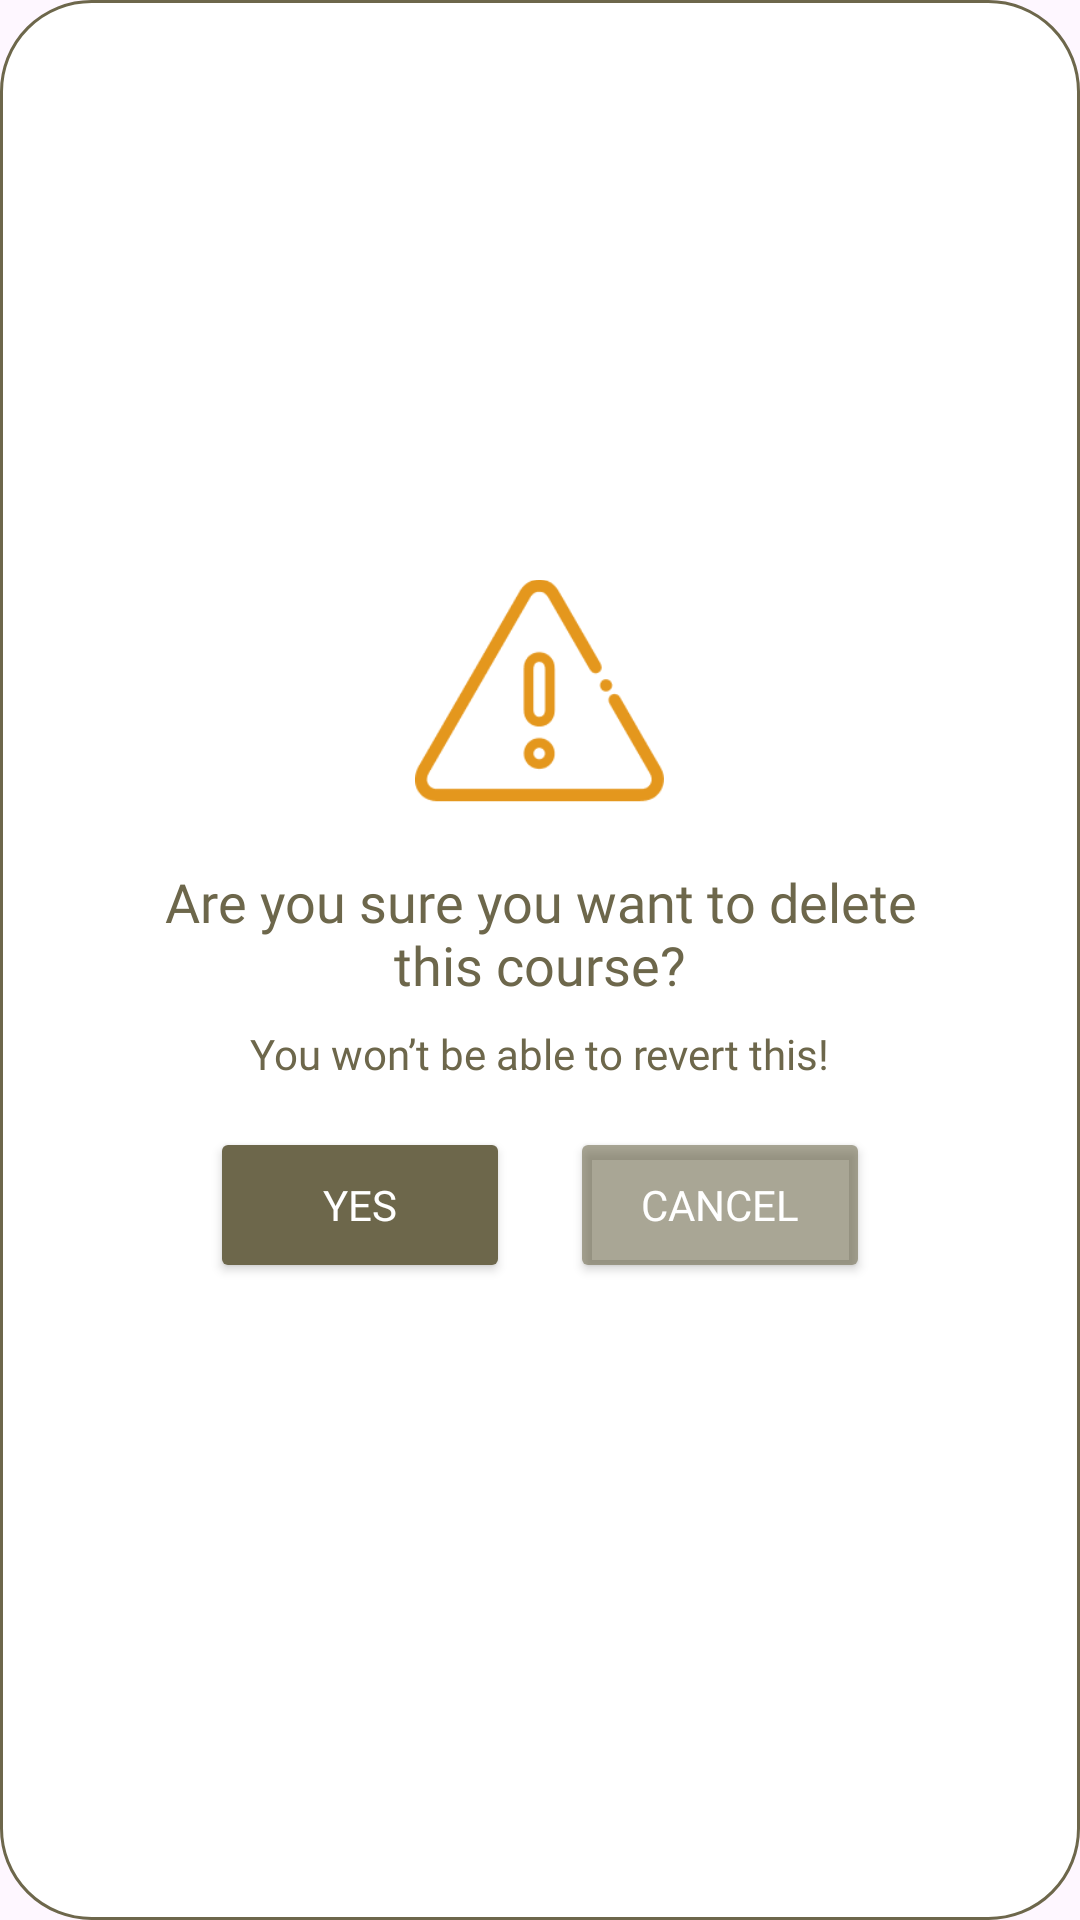

Icon click points for this 1080w x 1920h phone screenshot, format [x,y]:
warning: [539,691]
